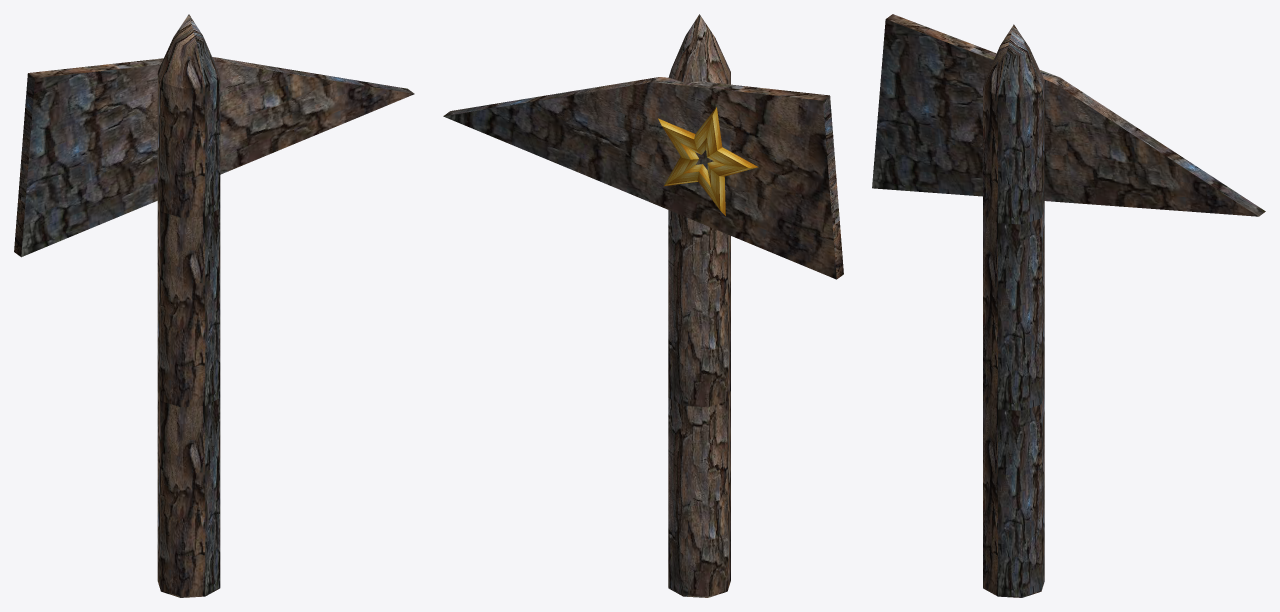
The model's file is Placa.FBX.
3 views of the same model, side by side, from view 1: azimuth 30°, elevation 25°; view 2: azimuth 150°, elevation 25°; view 3: azimuth 330°, elevation 25° (orthographic).
Parts seen in each view (by area): view 1: Cylinder010, Box001; view 2: Box001, Cylinder010, Star001; view 3: Cylinder010, Box001.
Boxes of the visible parts, left/top/right/bottom form: Cylinder010: left=157, top=14, right=220, bottom=597; Box001: left=14, top=57, right=414, bottom=257; Box001: left=443, top=77, right=843, bottom=279; Cylinder010: left=668, top=14, right=730, bottom=597; Star001: left=658, top=107, right=758, bottom=215; Cylinder010: left=983, top=24, right=1044, bottom=597; Box001: left=872, top=14, right=1265, bottom=216.
Size of the model in its own units: 42.48 by 58.84 by 7.16.
Materials: 2 (2 with a texture image).
